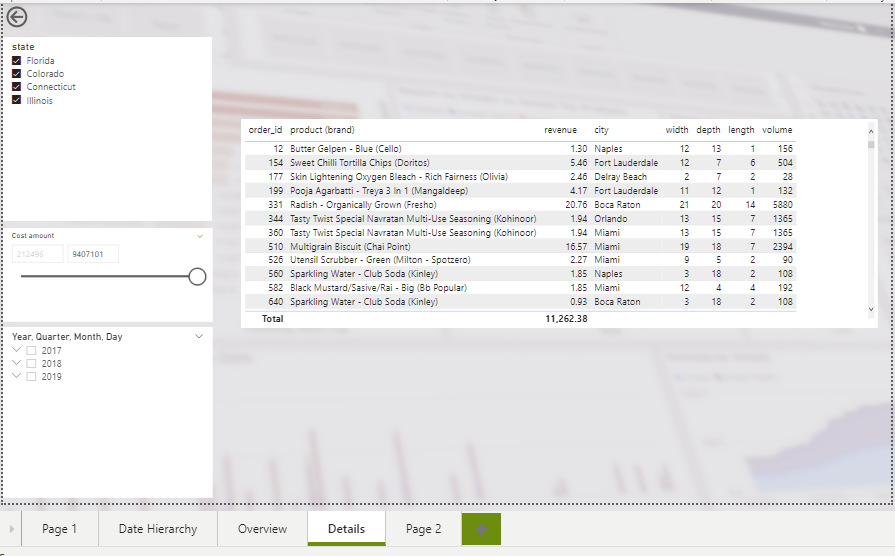

Layout of this report page (visuals, bound fields, positions):
{"tool":"powerbi","page":{"name":"Details","canvas":[1280,720],"ordinal":3},"visuals":[{"type":"slicer","fields":{"Values":["stores.state"]},"box":[0,49.6,300.5,264.6],"z":0},{"type":"slicer","fields":{"Values":["stores.Cost amount"]},"box":[0,323.9,301.5,135.2],"z":1000},{"type":"slicer","fields":{"Values":["sales2018-2019.Order Date.Variation.Date Hierarchy.Year","sales2018-2019.Order Date.Variation.Date Hierarchy.Quarter","sales2018-2019.Order Date.Variation.Date Hierarchy.Month","sales2018-2019.Order Date.Variation.Date Hierarchy.Day"]},"box":[0,466.9,301.5,246.1],"z":2000},{"type":"tableEx","fields":{"Values":["sales2018-2019.order_id","producthierarchy.product (brand)","Sum(sales2018-2019.revenue)","stores.city","producthierarchy.width","producthierarchy.depth","producthierarchy.length","producthierarchy.volume"]},"box":[342.4,166.3,917.2,300.5],"z":3000},{"type":"actionButton","box":[0,0,100,40],"z":4000}]}

Visuals, with their boxes on the page's 1280x720 design canvas (x1, y1, x2, y2). These are canvas units, not pixel positions in the 895x556 screenshot, which may show the page scaled, cropped or inside an application window:
slicer - stores.state: 0:50:300:314
slicer - stores.Cost amount: 0:324:302:459
slicer - sales2018-2019.Order Date.Variation.Date Hierarchy.Year x sales2018-2019.Order Date.Variation.Date Hierarchy.Quarter: 0:467:302:713
tableEx - sales2018-2019.order_id x producthierarchy.product (brand): 342:166:1260:467
actionButton: 0:0:100:40
